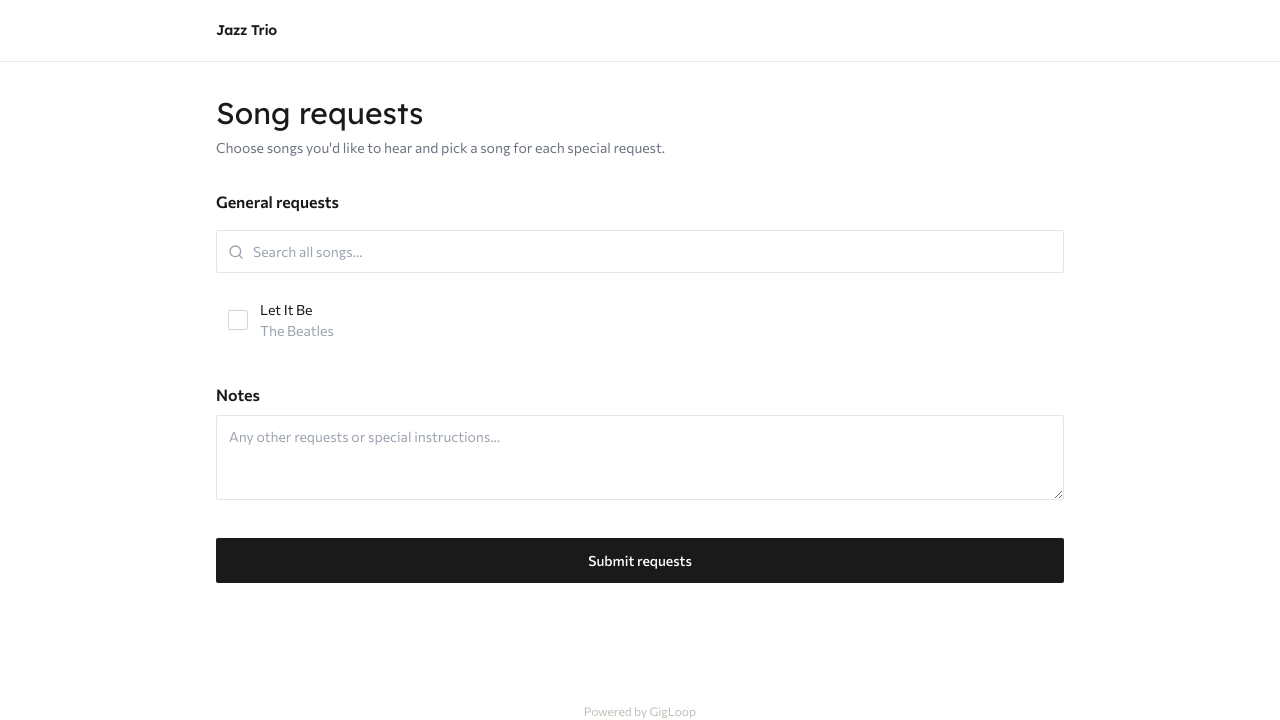
Test: PortalMusicPage — mutation error recovery › shows error and re-enables Submit after failure, navigates away on successful retry
Click the button "Submit requests": (640,560) top-left (216, 538), bottom-right (1064, 583)
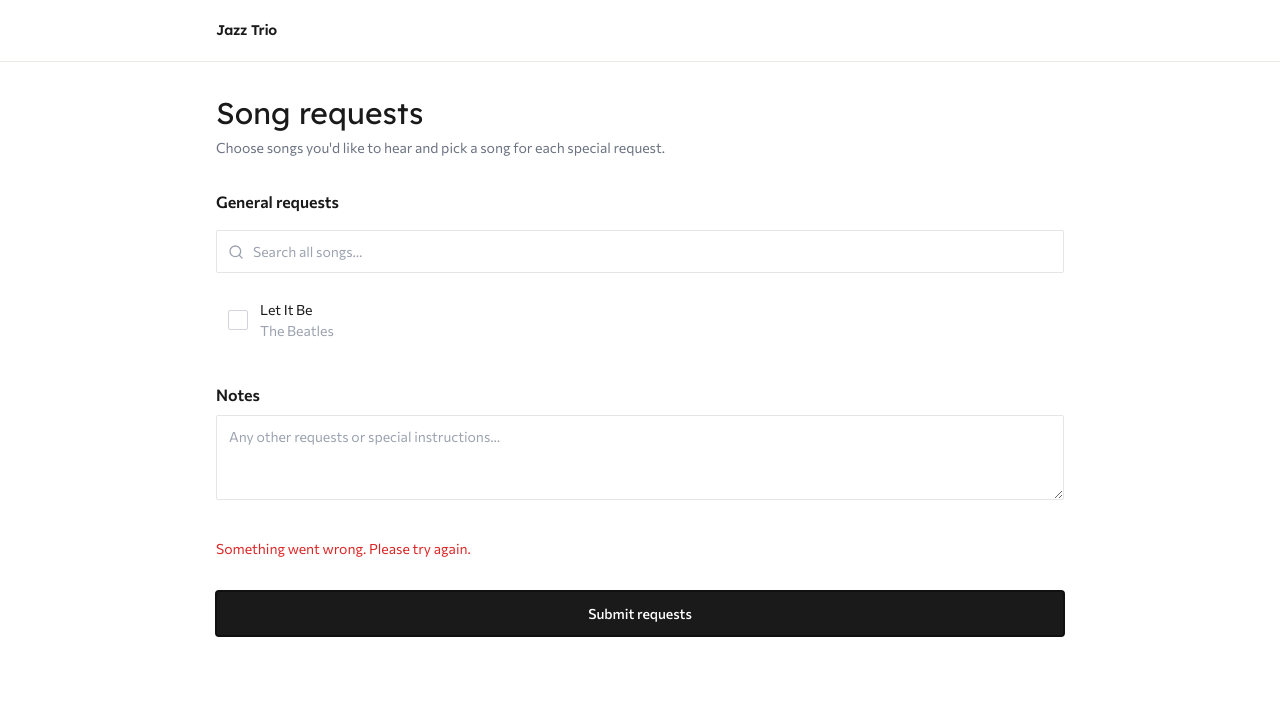
Result: the text "Something went wrong. Please try again." is shown at top-left (216, 540), bottom-right (471, 557)
Click the button "Submit requests": (640,614) top-left (216, 591), bottom-right (1064, 636)
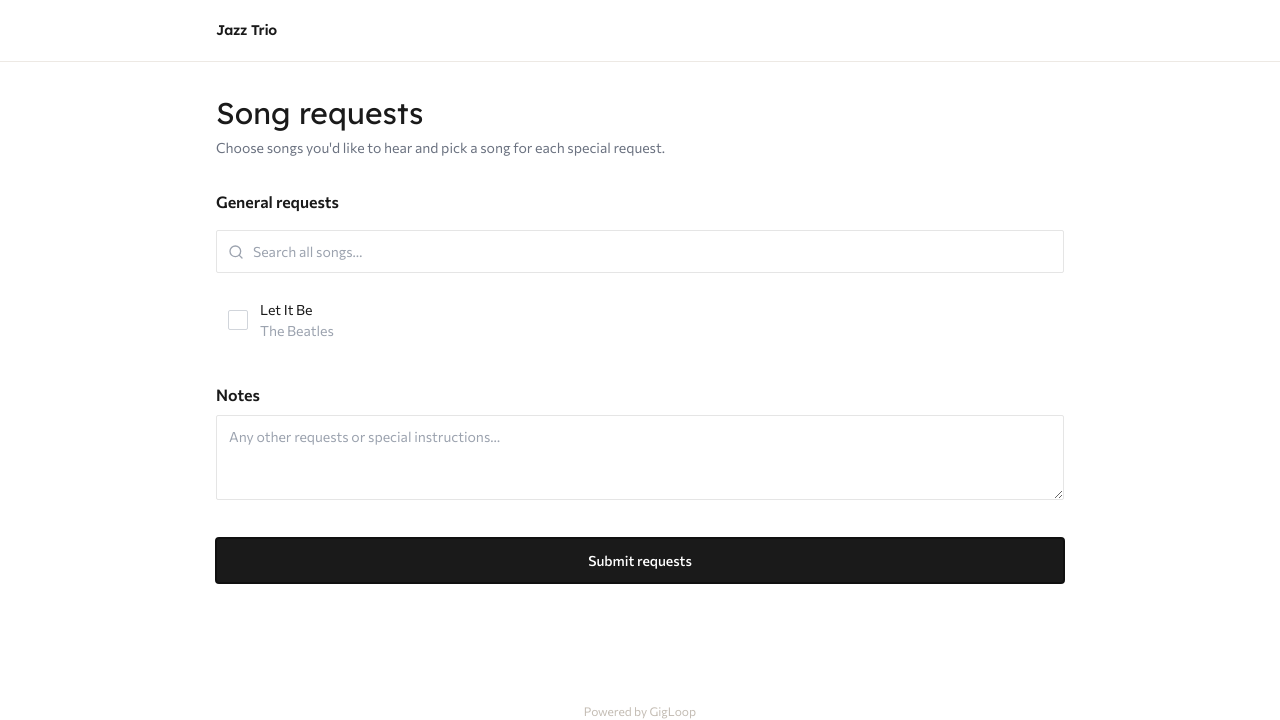
Result: the text "Something went wrong" is gone
